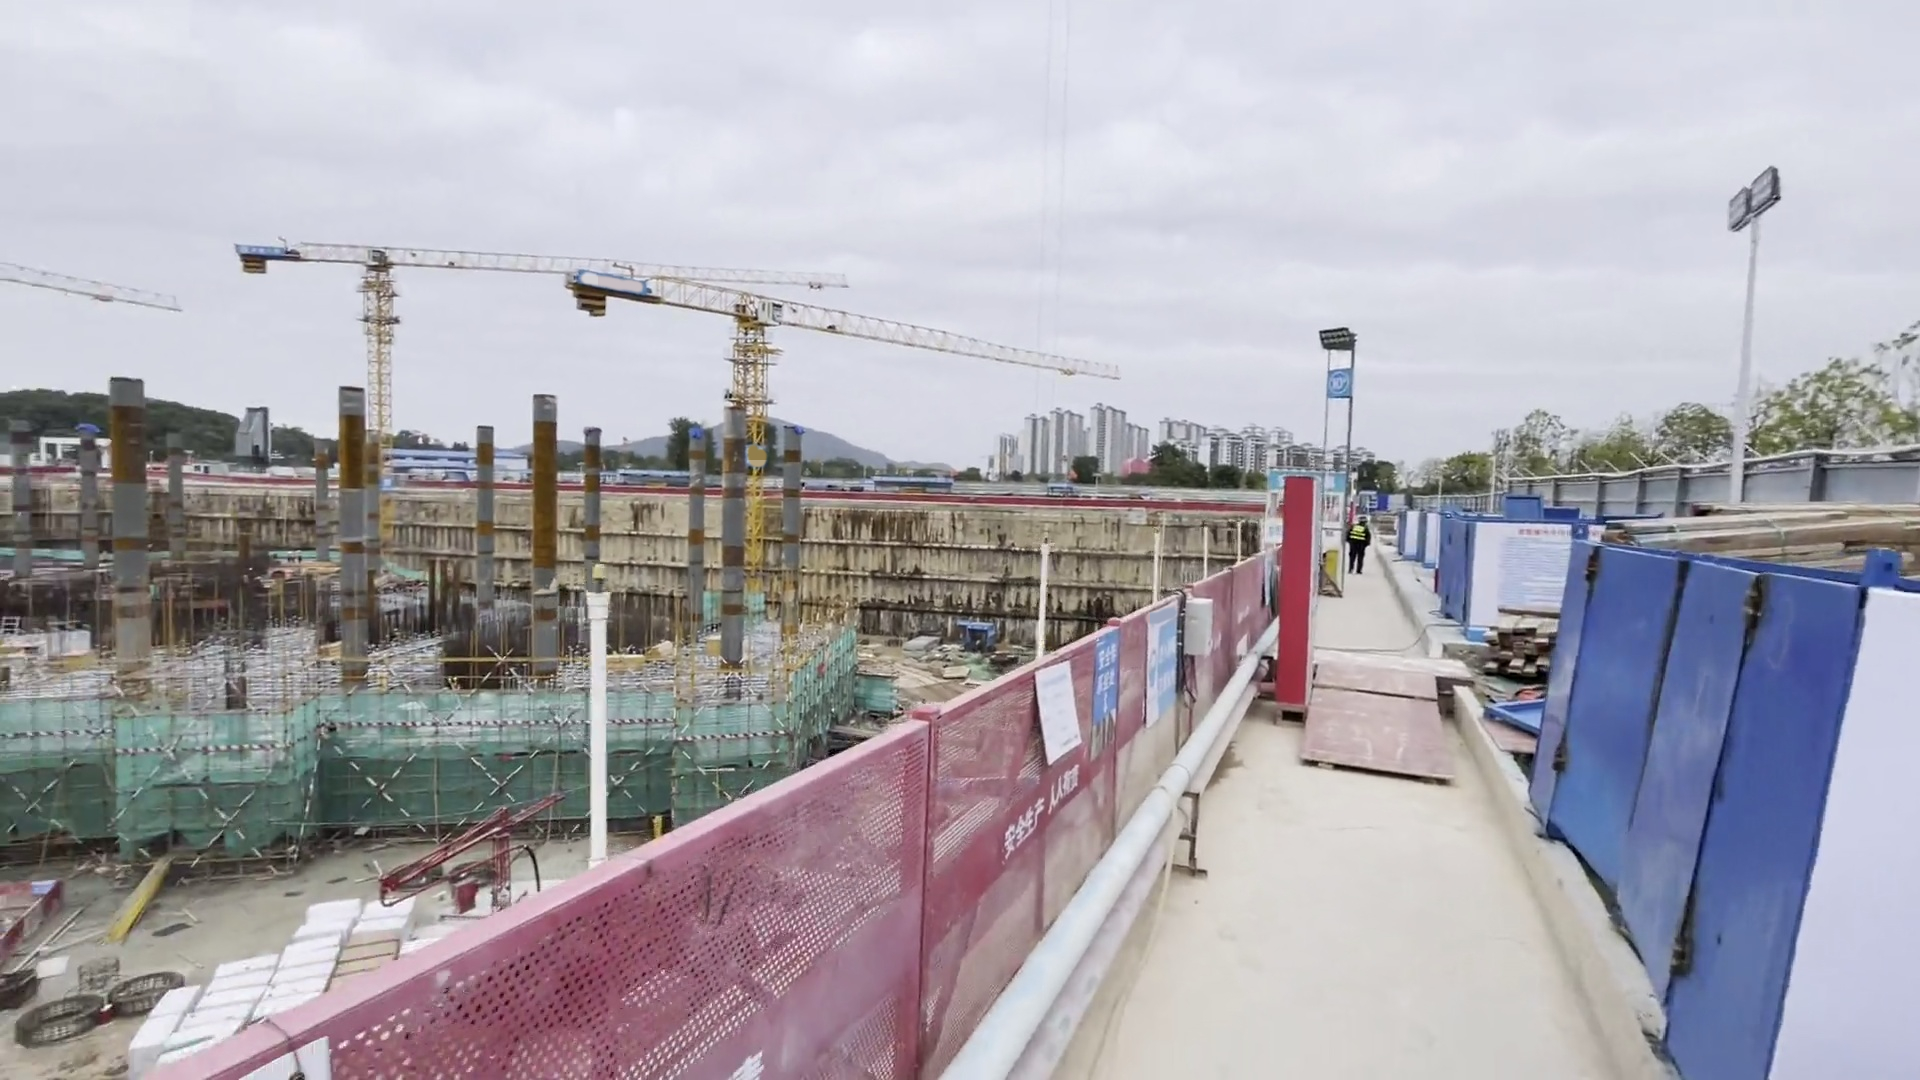helmet: (1356, 514, 1370, 524)
person: (1350, 515, 1373, 581)
